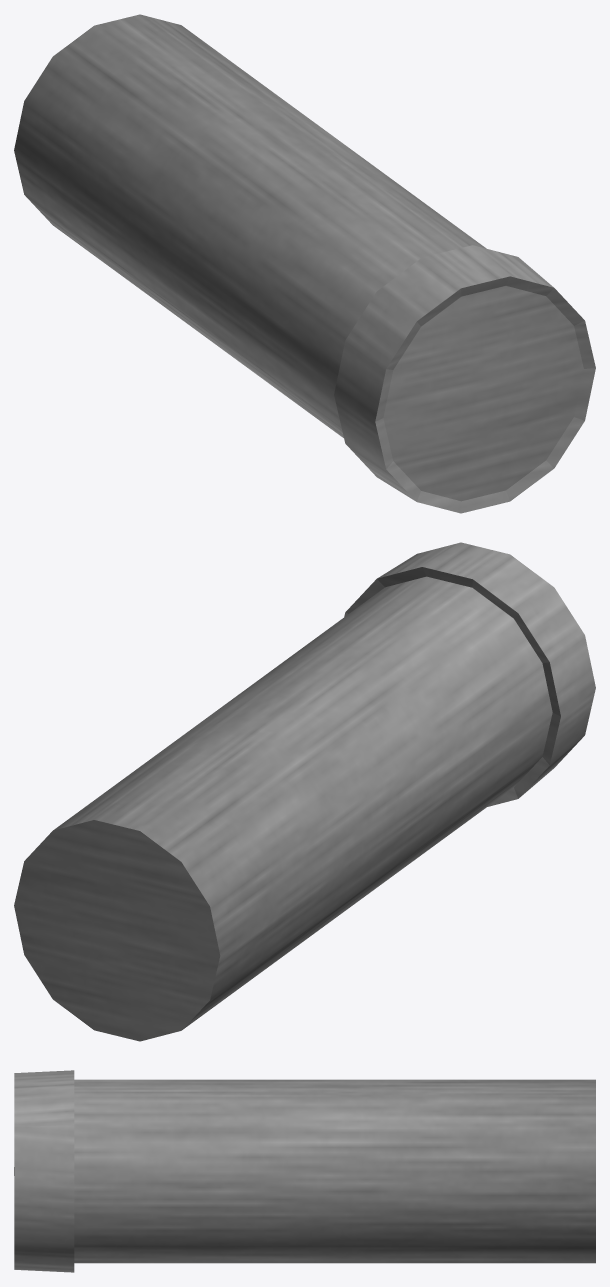
Rendered from pipe-cap-1x3.fbx.
3 renders of one model, top to bottom at view 1: azimuth 30°, elevation 25°; view 2: azimuth 150°, elevation 25°; view 3: azimuth 270°, elevation 25°, orthographic. The views are drawn at different scales.
Parts seen in each view (by area): view 1: pipe_1x6; view 2: pipe_1x6; view 3: pipe_1x6.
Part boxes in pixels (box(x1,y1,x2,y2)): pipe_1x6: box(14, 14, 595, 513); pipe_1x6: box(14, 542, 595, 1041); pipe_1x6: box(14, 1070, 595, 1272).
Size of the model in its own units: 106 by 104 by 299.
